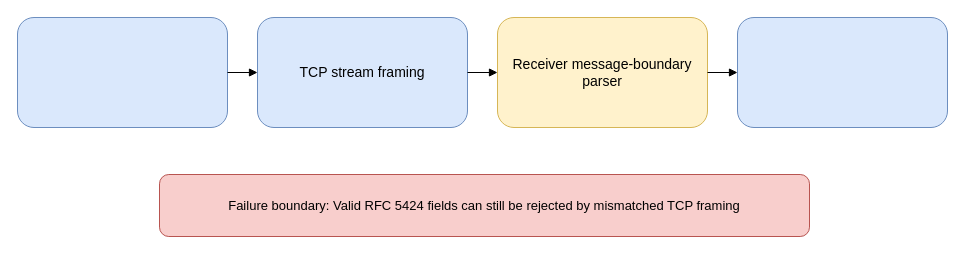
This 965x254 diagram has some shape labels left out. The centre of each missing label's shape, as x and y in pixels:
"FortiAnalyzer log-forward entry" goes at (x=122, y=72).
"SIEM normalization" goes at (x=842, y=72).
